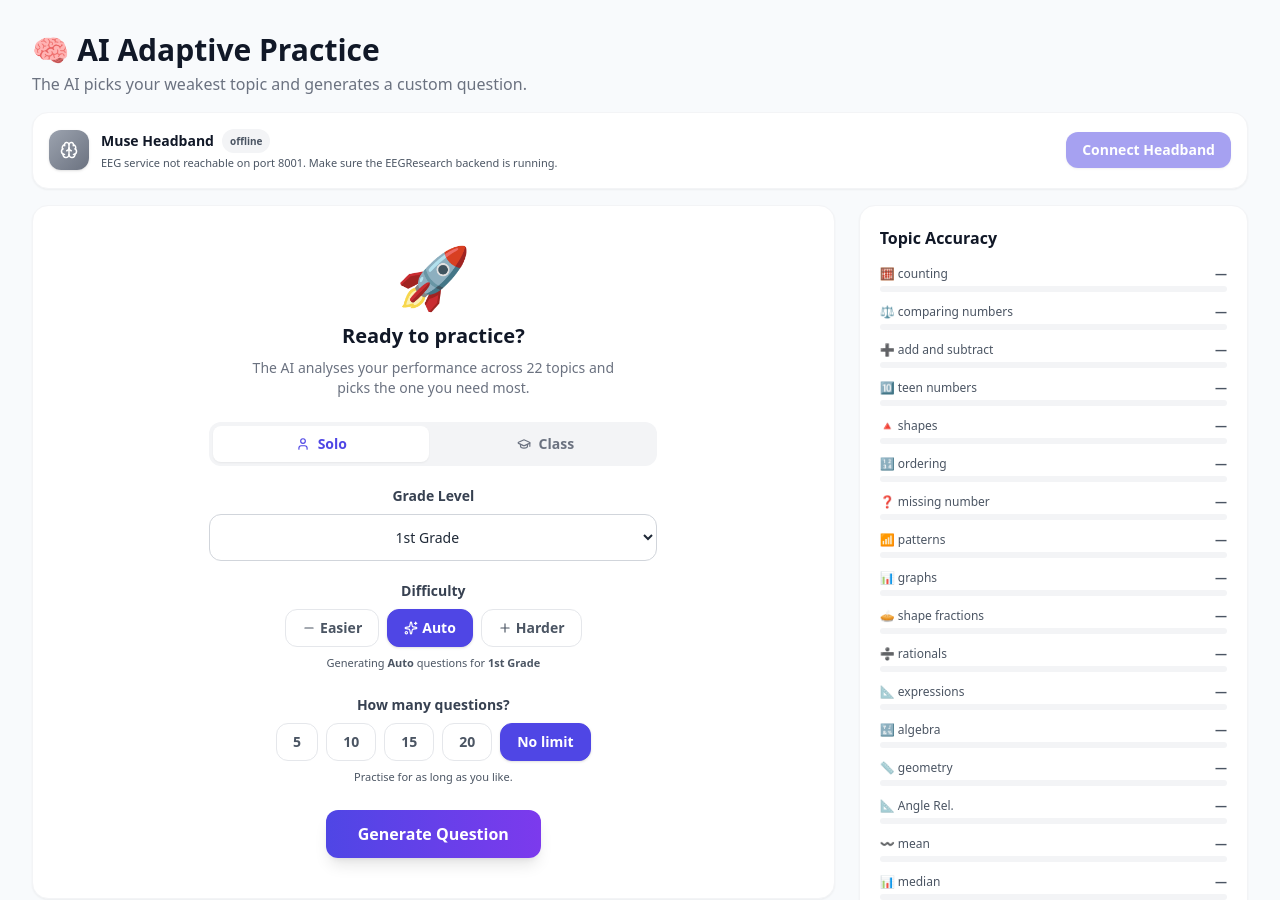
Test: says what picking one will do, without promising to stop
Expected: the text "How many questions?" is shown, [357, 695, 510, 714]
Click the button "10": point(351, 742) [326, 723, 376, 761]
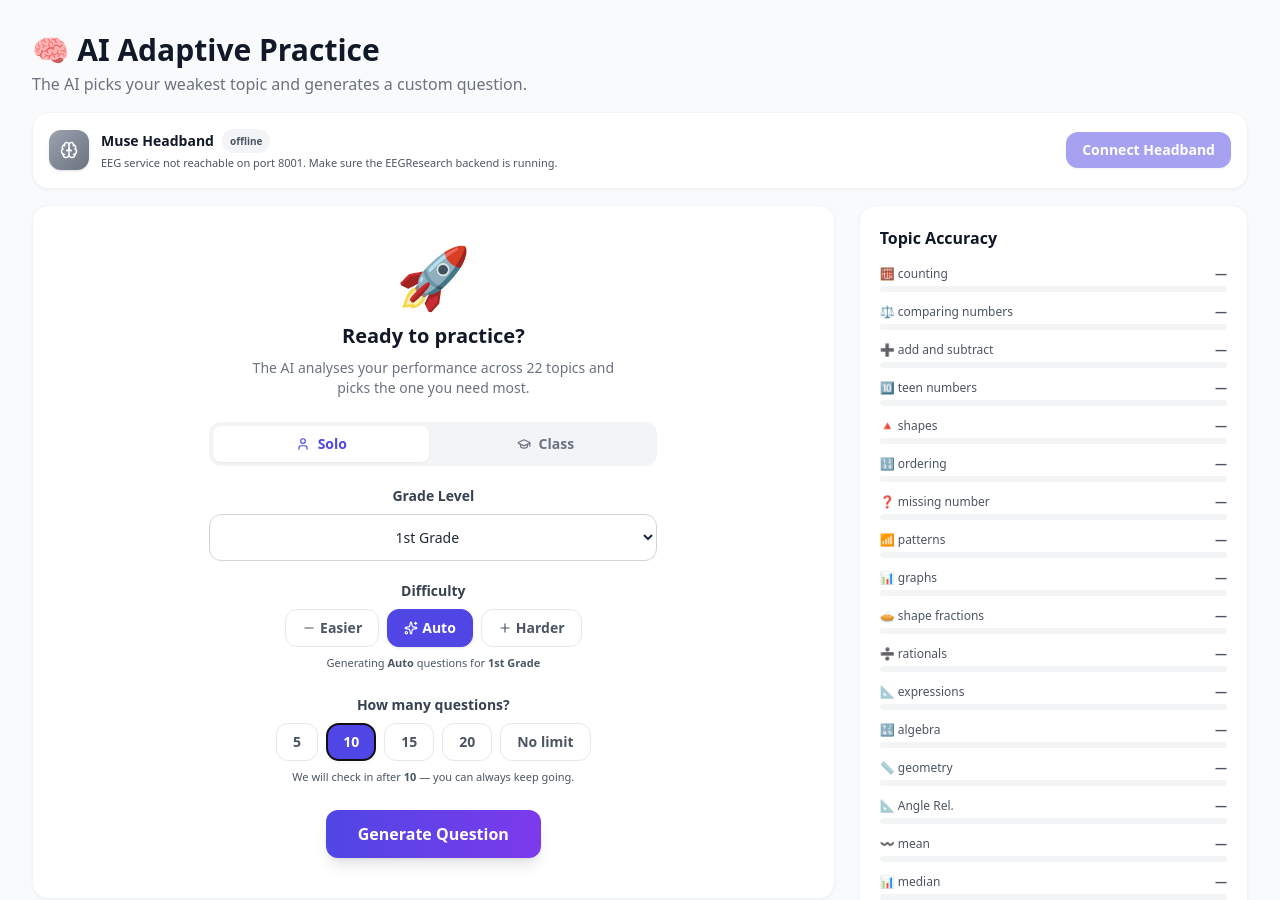
Now the text "We will check in after 10 — you can always keep going." is shown, box [292, 769, 574, 784]
